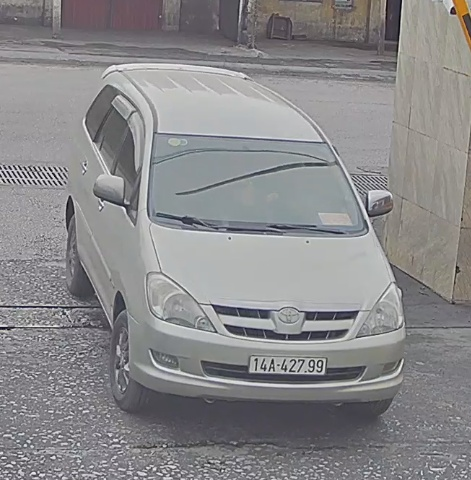vehicle plate: (248, 352, 327, 382)
